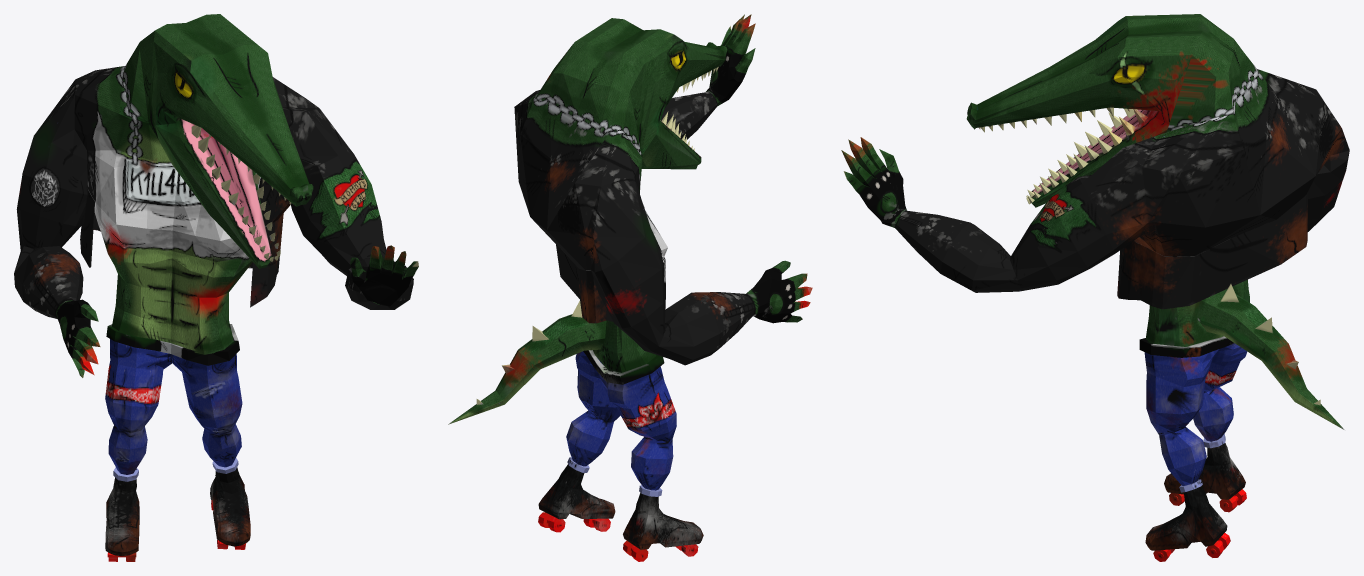
File: cocodrilaBonesSelect_000018.obj
3 renders of one model, left to right at view 1: azimuth 30°, elevation 25°; view 2: azimuth 150°, elevation 25°; view 3: azimuth 270°, elevation 25°, orthographic. The views are drawn at different scales.
Parts seen in each view (by area): view 1: Crocodile.002_Cylinder.002; view 2: Crocodile.002_Cylinder.002; view 3: Crocodile.002_Cylinder.002.
Boxes of the visible parts, left/top/right/bottom form: Crocodile.002_Cylinder.002: left=14, top=14, right=418, bottom=561; Crocodile.002_Cylinder.002: left=448, top=14, right=812, bottom=561; Crocodile.002_Cylinder.002: left=841, top=14, right=1349, bottom=561.
Size of the model in its own units: 3.7 by 6.69 by 5.95.
